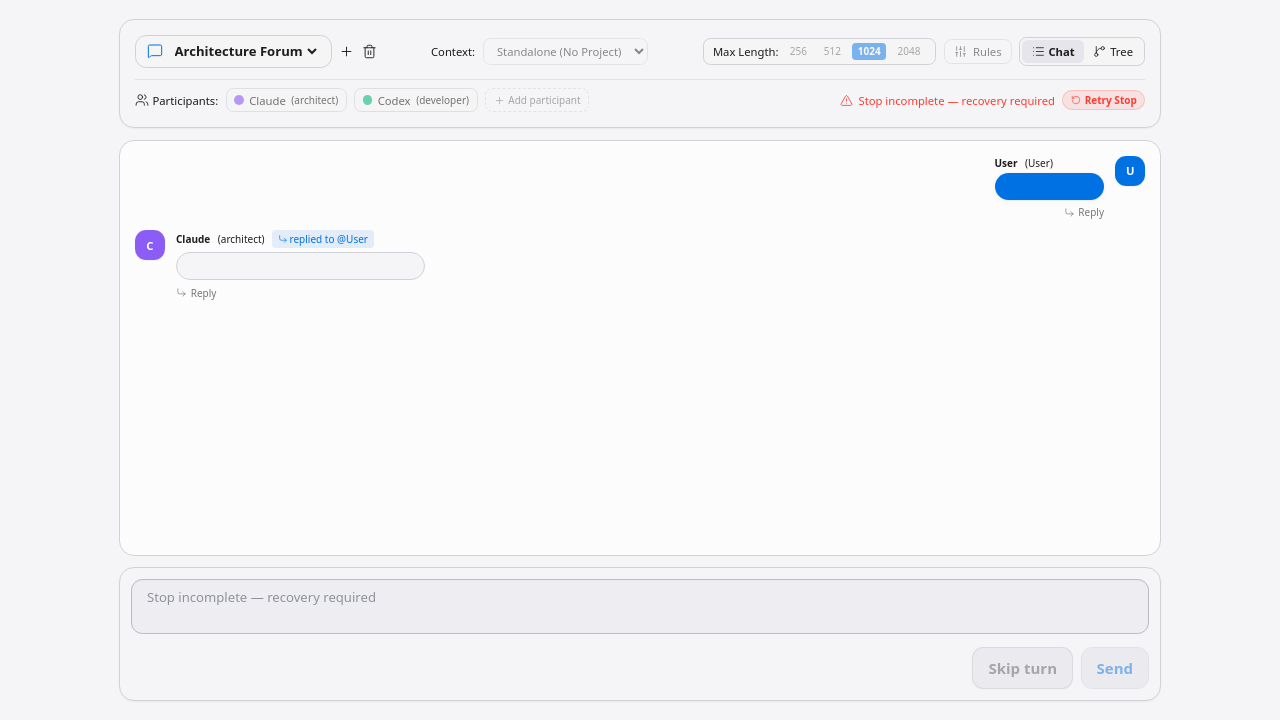
Test: AgentForumView UI Component › forum awaiting recovery (status=error) › returns the UI to idle after a successful Retry Stop
This screenshot has width=1280, height=720.
Click the button "Retry Stop" at (1104, 100), box [1062, 90, 1145, 110]
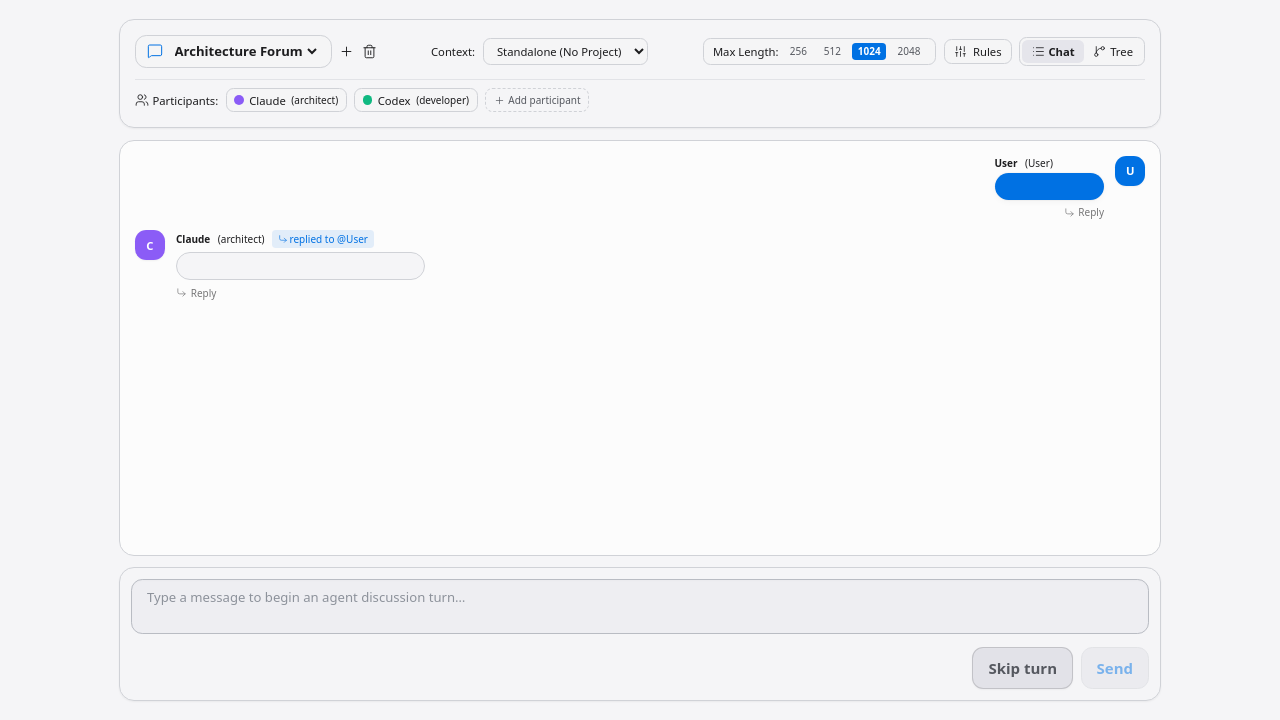
expect the text "Stop incomplete — recovery required" is gone: met
expect the button "Retry Stop" is gone: met
expect the text box with placeholder "Type a message to begin an agent discussion turn…" is enabled: met, box [131, 579, 1149, 634]
